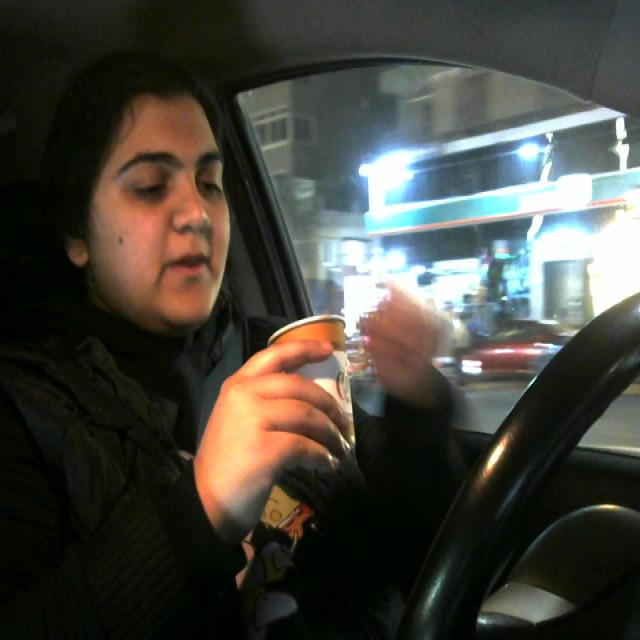drinking: (266, 311, 358, 453)
